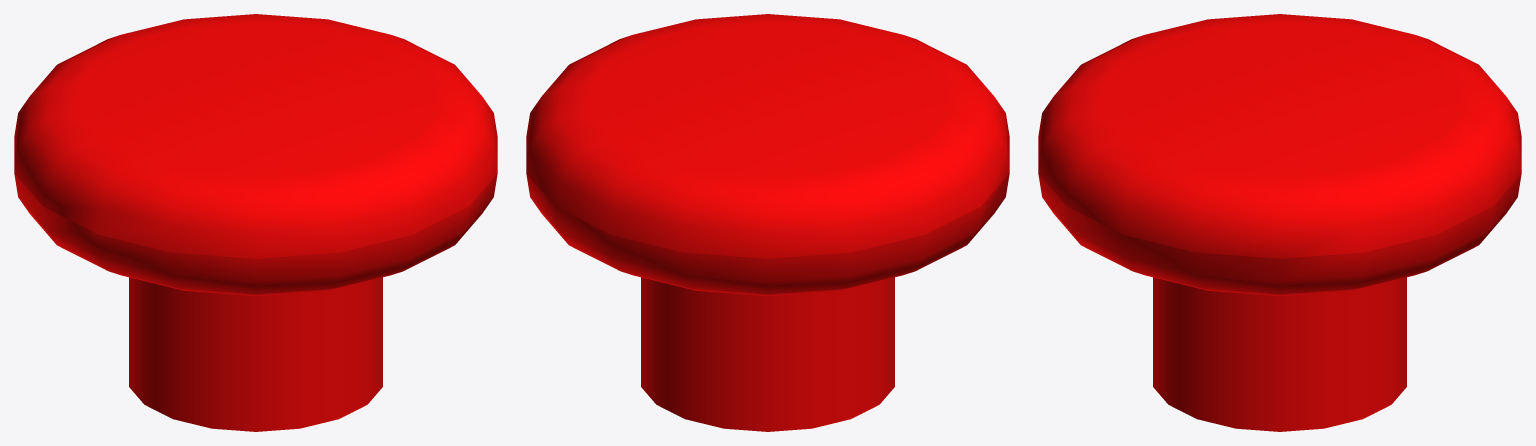
Rendered from factory_button_button.fbx.
3 views of the same model, side by side, from view 1: azimuth 30°, elevation 25°; view 2: azimuth 150°, elevation 25°; view 3: azimuth 270°, elevation 25° (orthographic).
Visible parts, largest first — view 1: buttonbase; view 2: buttonbase; view 3: buttonbase.
Part boxes in pixels (x1,y1,x2,y2): buttonbase: (14,14,497,431); buttonbase: (526,14,1009,431); buttonbase: (1038,14,1521,431).
Size of the model in its own units: 40 by 25 by 39.39.
